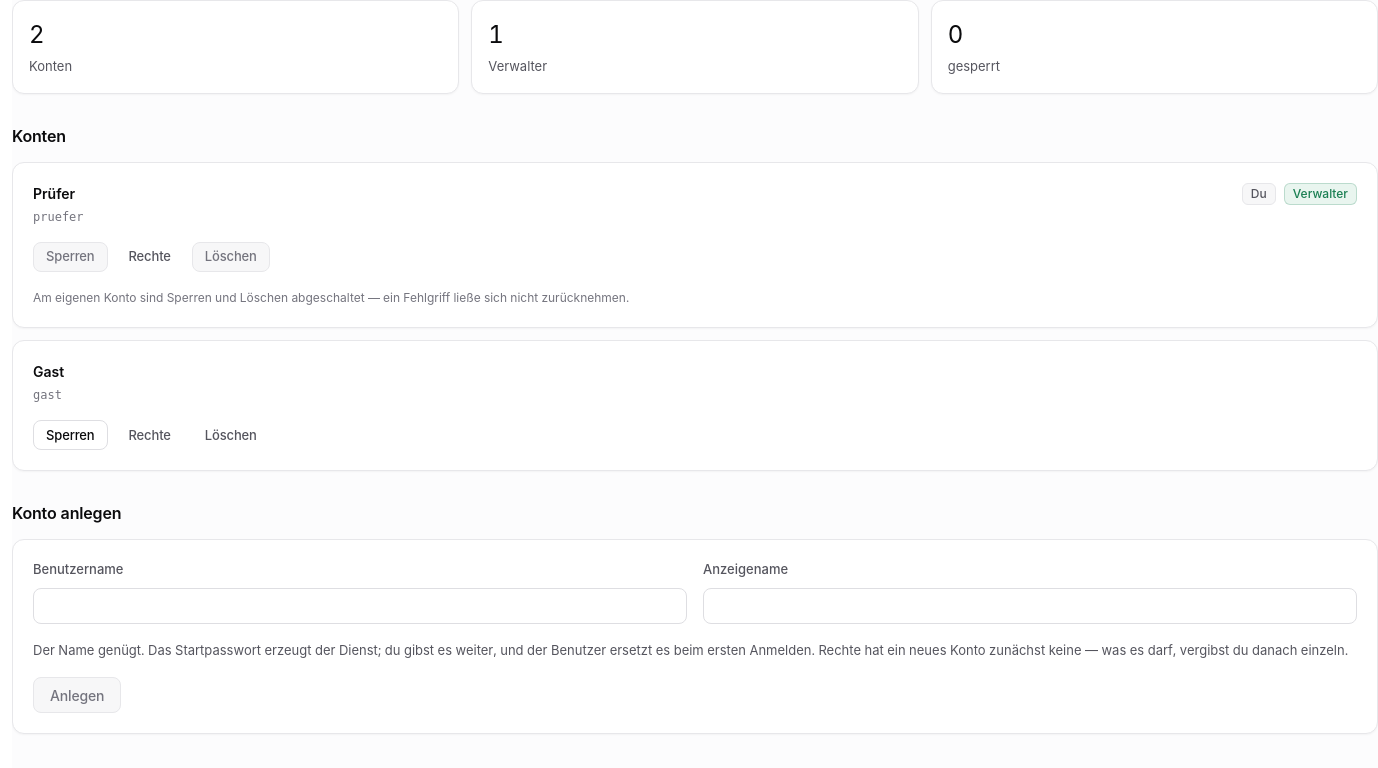
Test: Verwaltungsseite › Rechte › bietet je Artefakt eine Rolle an
Step 1. Click the button with aria-label "Rechte von gast" → (150, 435), box top-left (116, 420), bottom-right (184, 450)
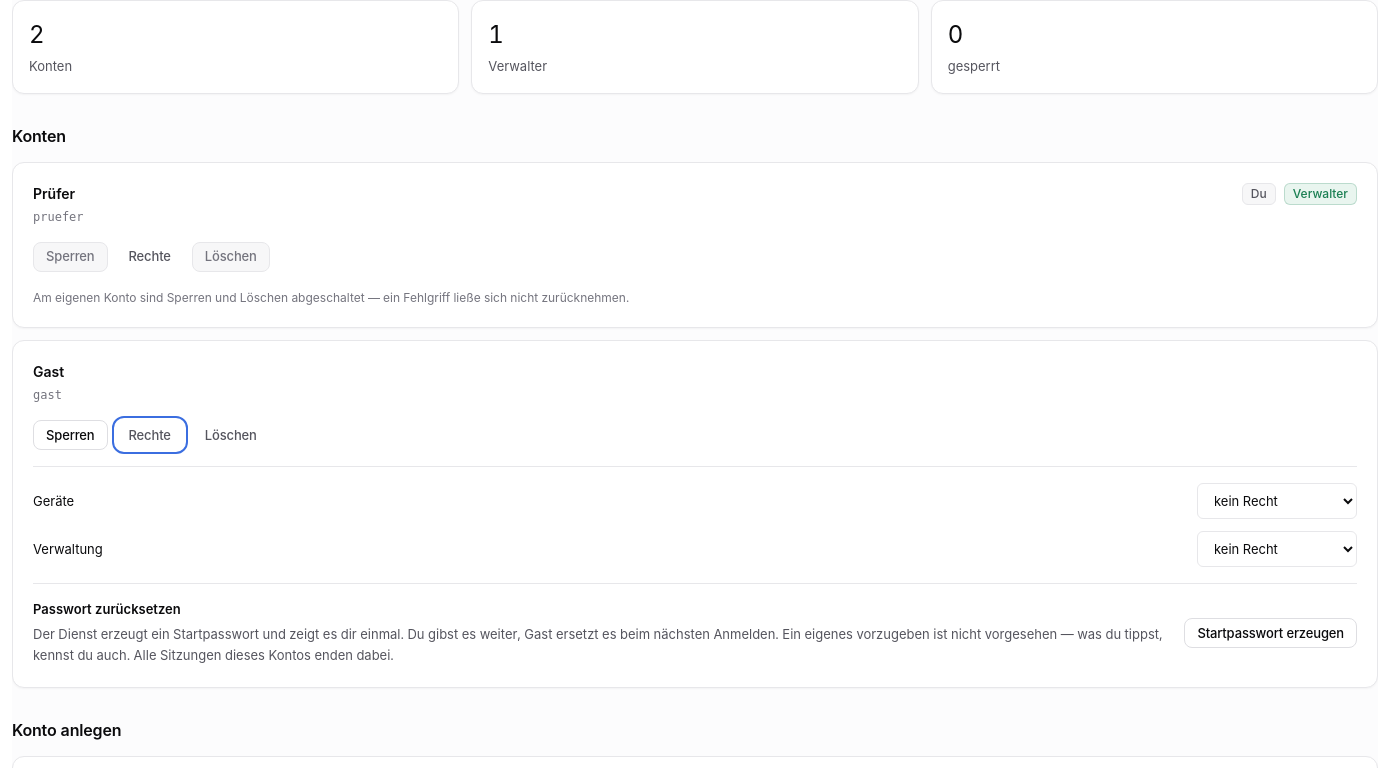
Result: the dropdown labelled "Geräte" shows "kein Recht" at top-left (1197, 483), bottom-right (1357, 519)
